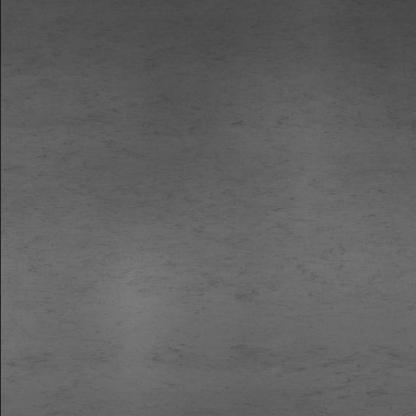silk_spot: (100, 85, 386, 300)
